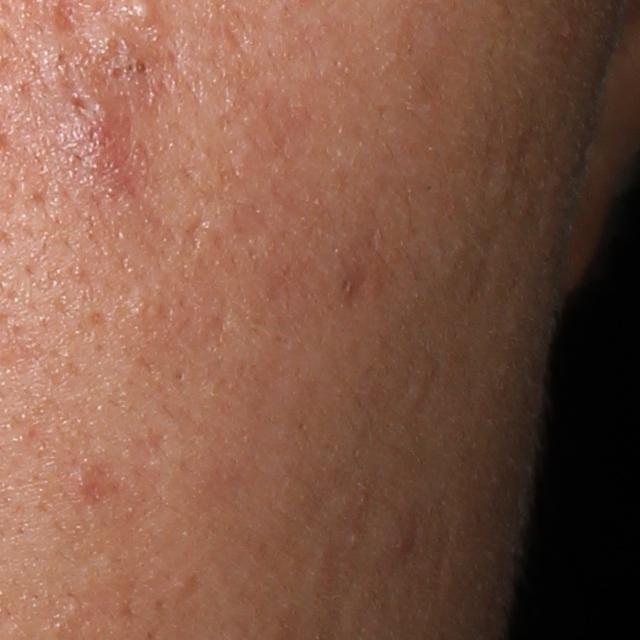atrophic_scar: (180, 216, 208, 256)
comedo: (131, 56, 152, 78), (107, 62, 126, 84), (170, 575, 190, 593)
papule: (68, 108, 122, 162), (73, 467, 97, 493)
